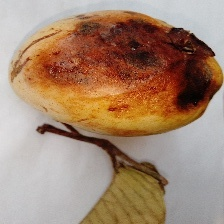guava: (8, 63, 197, 203)
